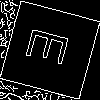E: (25, 25, 79, 70)
